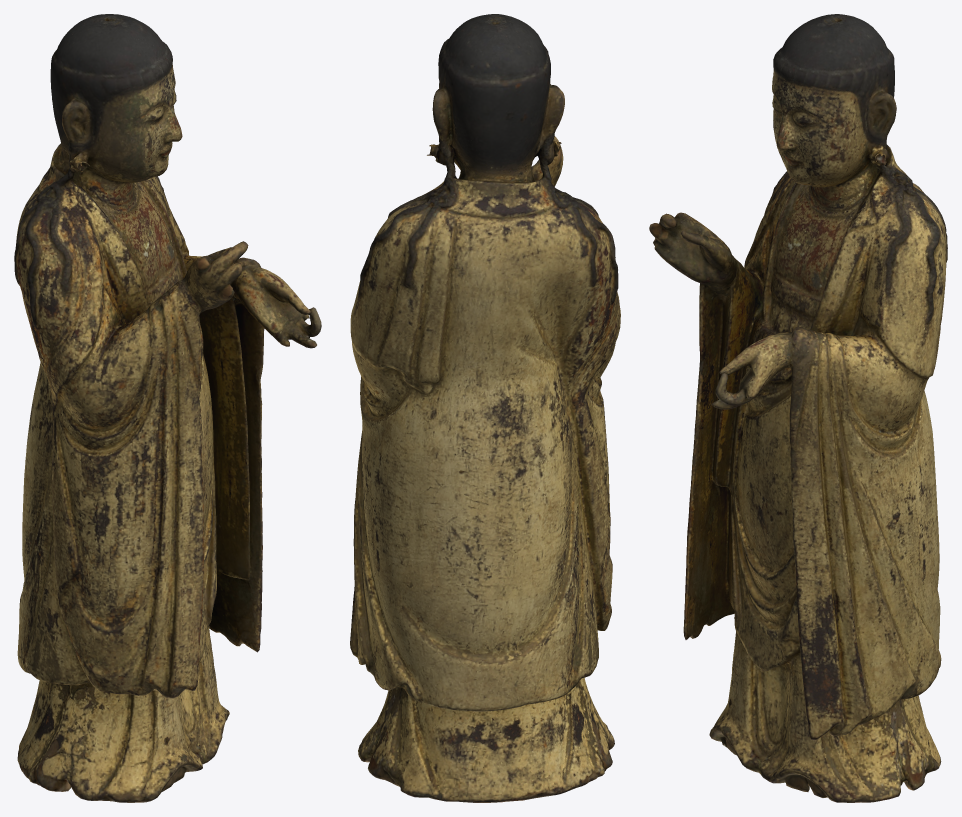
3 views of the same model, side by side, from view 1: azimuth 30°, elevation 25°; view 2: azimuth 150°, elevation 25°; view 3: azimuth 270°, elevation 25° (orthographic).
Parts seen in each view (by area): view 1: Object_2; view 2: Object_2; view 3: Object_2.
Part boxes in pixels (x1,y1,x2,y2): Object_2: (14,14,321,802); Object_2: (350,14,620,802); Object_2: (649,14,947,802).
Size of the model in its own units: 0.1783 by 0.4892 by 0.1807.
1 material, 1 textured.
